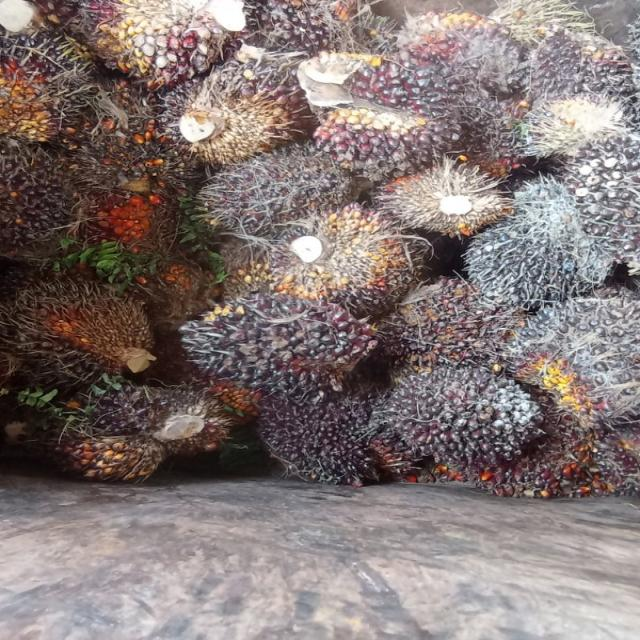fraksi 00: (183, 292, 379, 396), (503, 287, 640, 423), (382, 359, 529, 474), (0, 281, 154, 382), (203, 146, 343, 235), (472, 217, 598, 312), (260, 393, 382, 486)
fraksi 1: (297, 50, 459, 166)
